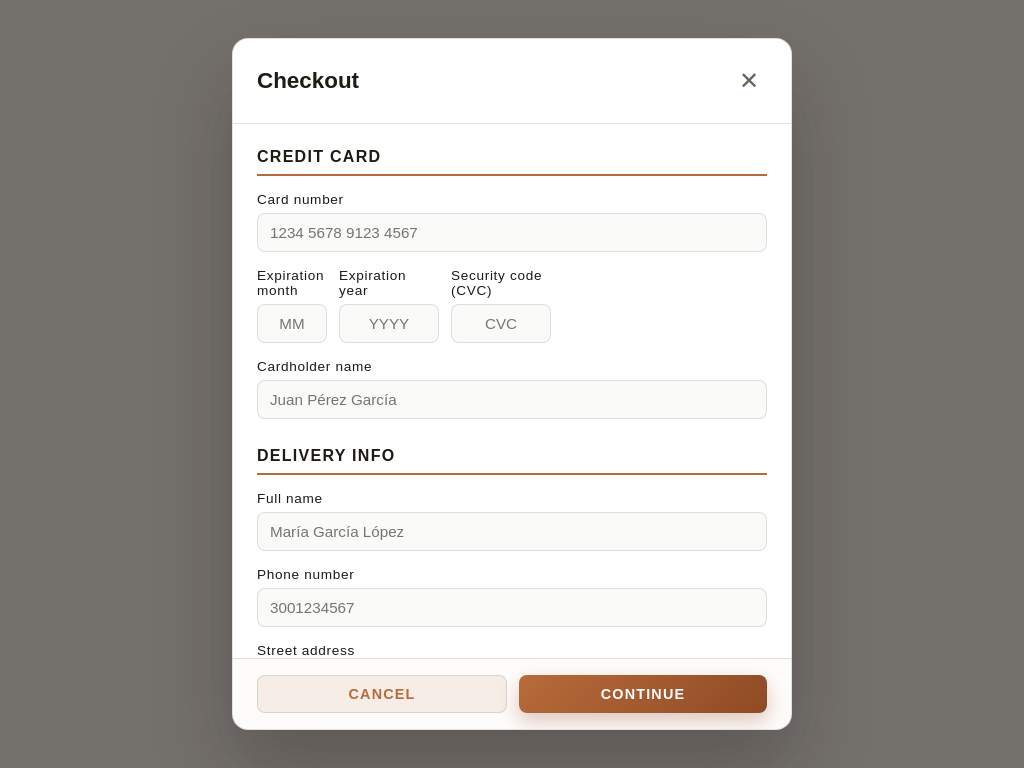
Scenario: CheckoutModal › should show validation error for invalid card number
Type "123" into the field labelled "Card number" at (512, 233), box [257,213,767,252]
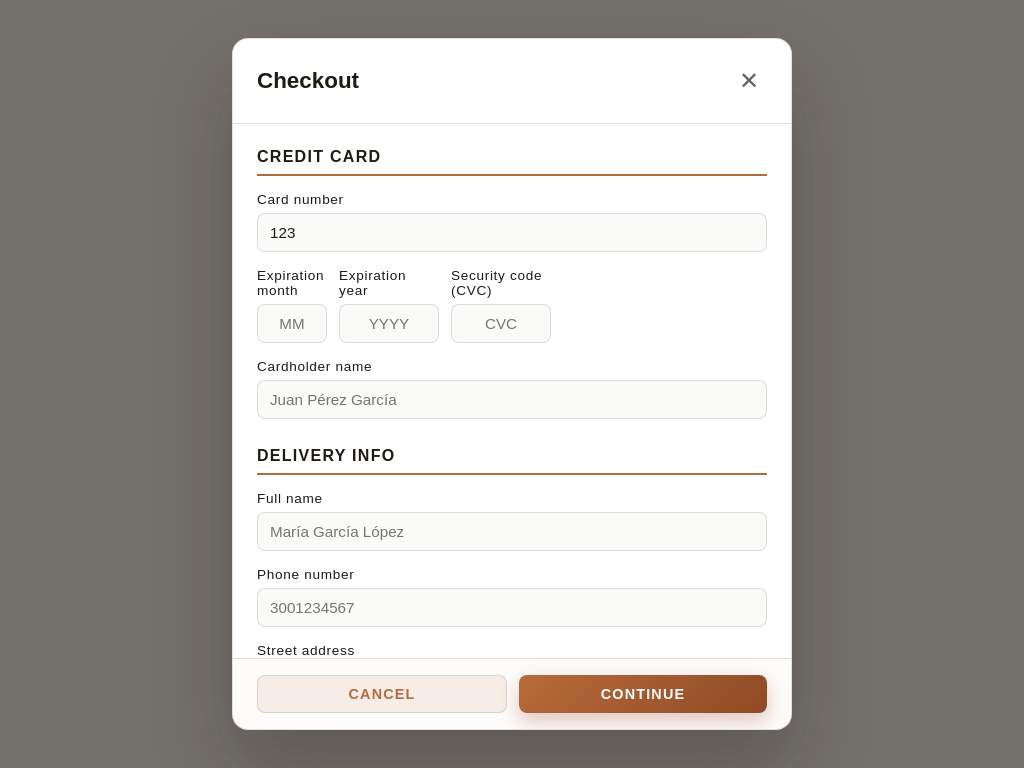
Click the button "Continue" at (643, 694), box [519,675,767,713]
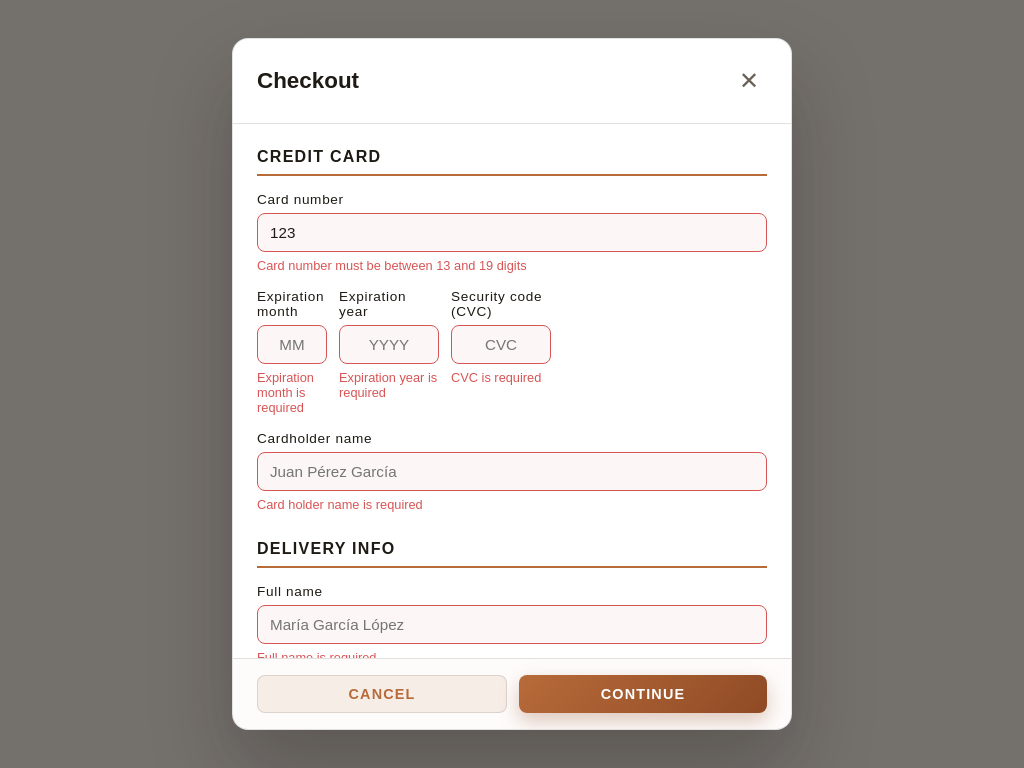
Expected: the text "Card number must be between 13 and 19 digits" is shown, [257,258,527,273]
